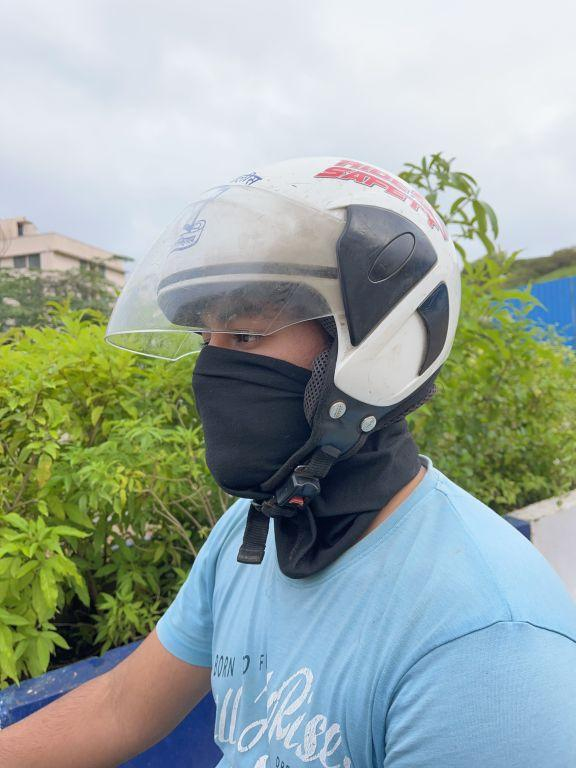helmet: (95, 139, 468, 539)
